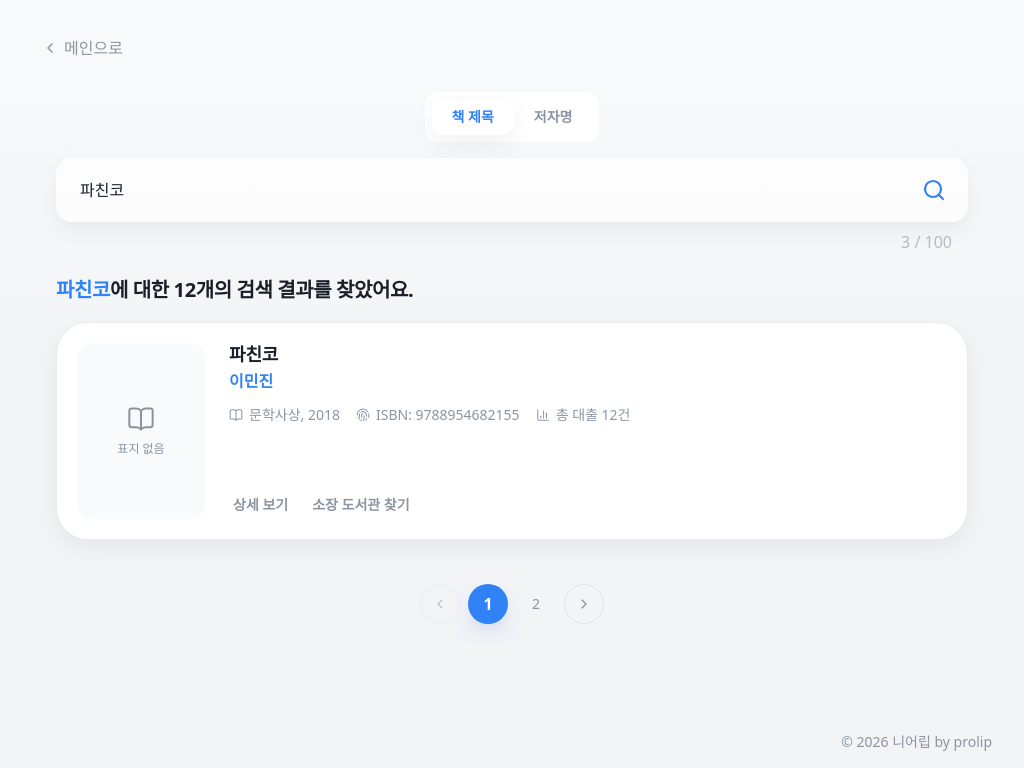
Test case: app router integration › 상세 정보에 없는 항목은 보이지 않는다
Click the button "상세 보기".
click(261, 505)  # box [229,491,292,519]
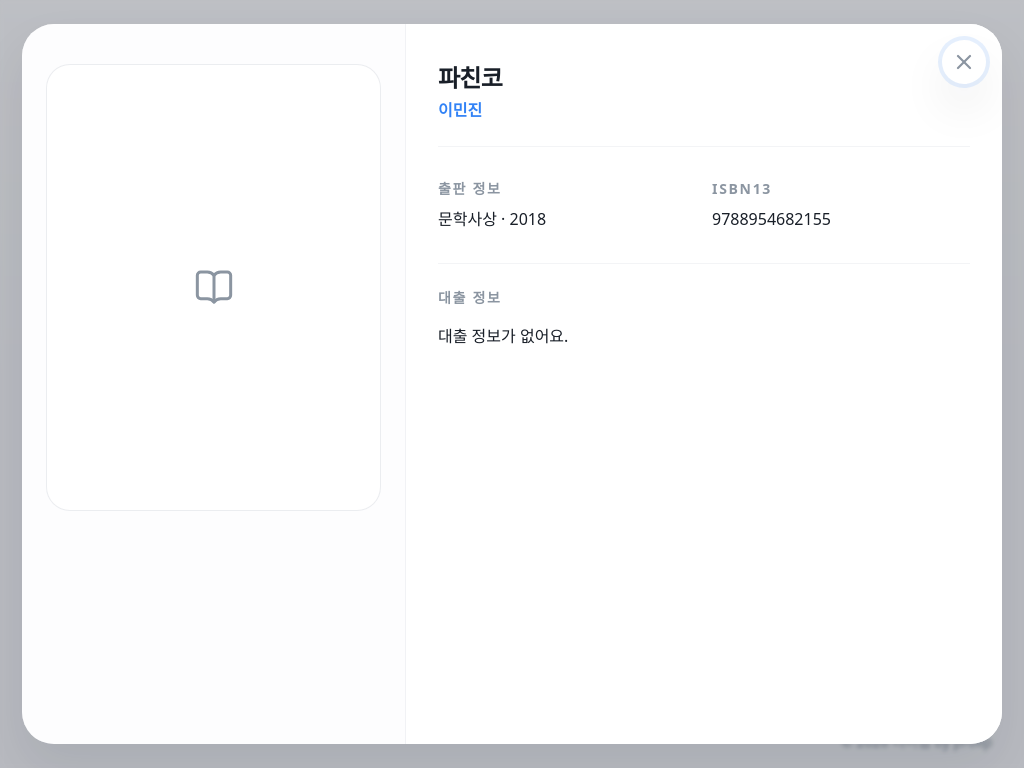
expect the text "문학사상 · 2018" is shown: met, box [438,208,546,230]
expect the text "대출 정보가 없어요." is shown: met, box [438,325,568,347]
